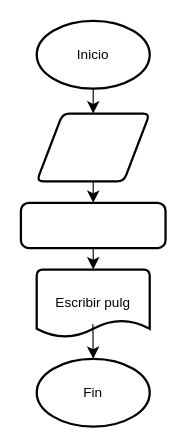
Some shapes in this 185 by 446 pixel diagram are drawn without their labels. Here are the shapes that lost their labels. From the top down, the box of each, then its label:
(35, 112, 150, 182): Leer mt
(19, 201, 166, 249): pulg = mt / 0.0254
